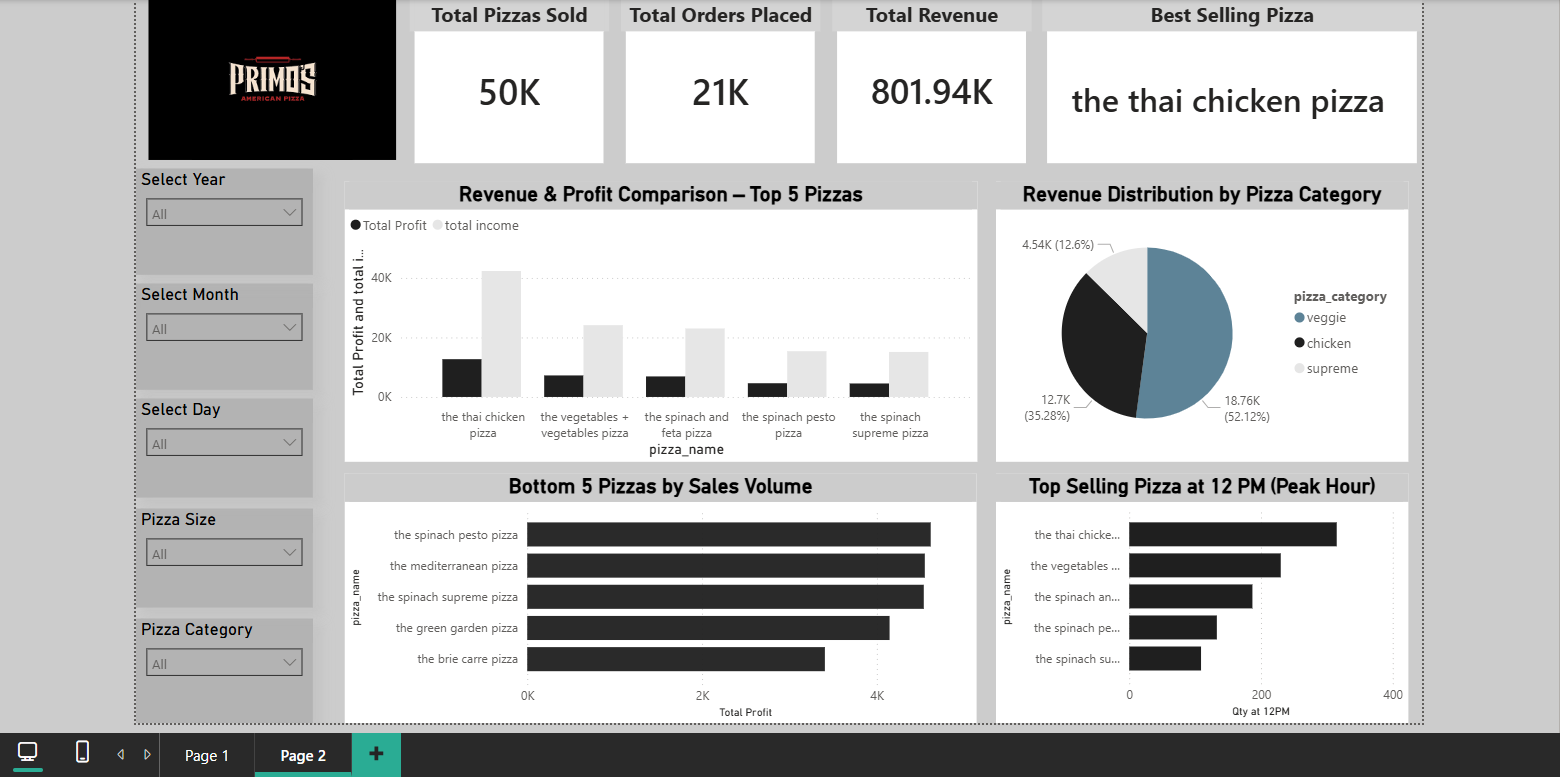

This screenshot's page, from the dashboard's own definition file:
{"tool":"powerbi","page":{"name":"Product Performance & Optimization","canvas":[1280,720],"ordinal":1},"visuals":[{"type":"image","box":[12.4,0,246.3,159.2],"z":0},{"type":"slicer","title":"Pizza Category","fields":{"Values":["pizza_sales.pizza_category"]},"box":[0,615.9,175.7,104.1],"z":1000},{"type":"slicer","title":"Pizza Size","fields":{"Values":["pizza_sales.pizza_size"]},"box":[0,506.8,175.7,98.6],"z":2000},{"type":"slicer","title":"Select Month","fields":{"Values":["pizza_sales.order_month"]},"box":[0,282.4,175.7,105.4],"z":3000},{"type":"slicer","title":"Select Day","fields":{"Values":["pizza_sales.order_day"]},"box":[0,397.3,175.7,98.6],"z":4000},{"type":"slicer","title":"Select Year","fields":{"Values":["pizza_sales.order_year"]},"box":[0,167.6,175.7,105.4],"z":5000},{"type":"cardVisual","title":"Total Pizzas Sold","fields":{"Data":["pizza_sales.total quantity"]},"box":[273,0,198.6,167.6],"z":6000},{"type":"cardVisual","title":"Total Orders Placed","fields":{"Data":["pizza_sales.total orders"]},"box":[482.4,0,198.6,167.6],"z":7000},{"type":"cardVisual","title":"Total Revenue","fields":{"Data":["pizza_sales.total income"]},"box":[693.2,0,198.6,167.6],"z":8000},{"type":"cardVisual","title":"Best Selling Pizza","fields":{"Data":["pizza_sales.top pizza sales"]},"box":[901.4,0,378.4,167.6],"z":9000},{"type":"clusteredColumnChart","title":"Revenue & Profit Comparison – Top 5 Pizzas","fields":{"Category":["pizza_sales.pizza_name"],"Y":["pizza_sales.Total Profit","pizza_sales.total income"]},"box":[207.7,180,629.3,279.4],"z":10000},{"type":"pieChart","title":"Revenue Distribution by Pizza Category","fields":{"Category":["pizza_sales.pizza_category"],"Y":["pizza_sales.Total Profit"]},"box":[855.9,180,410.3,279.4],"z":11000},{"type":"clusteredBarChart","title":"Bottom 5 Pizzas by Sales Volume","fields":{"Category":["pizza_sales.pizza_name"],"Y":["pizza_sales.Total Profit"]},"box":[208.1,471.9,628.7,248.8],"z":12000},{"type":"clusteredBarChart","title":"Top Selling Pizza at 12 PM (Peak Hour)","fields":{"Y":["pizza_sales.Qty at 12PM"],"Category":["pizza_sales.pizza_name"]},"box":[856,472,410,248],"z":13000}]}

Visuals, with their boxes on the page's 1280x720 design canvas (x1, y1, x2, y2). These are canvas units, not pixel positions in the 1560x777 screenshot, which may show the page scaled, cropped or inside an application window:
image: {"x1": 12, "y1": 0, "x2": 259, "y2": 159}
"Pizza Category" slicer: {"x1": 0, "y1": 616, "x2": 176, "y2": 720}
"Pizza Size" slicer: {"x1": 0, "y1": 507, "x2": 176, "y2": 605}
"Select Month" slicer: {"x1": 0, "y1": 282, "x2": 176, "y2": 388}
"Select Day" slicer: {"x1": 0, "y1": 397, "x2": 176, "y2": 496}
"Select Year" slicer: {"x1": 0, "y1": 168, "x2": 176, "y2": 273}
"Total Pizzas Sold" cardVisual: {"x1": 273, "y1": 0, "x2": 472, "y2": 168}
"Total Orders Placed" cardVisual: {"x1": 482, "y1": 0, "x2": 681, "y2": 168}
"Total Revenue" cardVisual: {"x1": 693, "y1": 0, "x2": 892, "y2": 168}
"Best Selling Pizza" cardVisual: {"x1": 901, "y1": 0, "x2": 1280, "y2": 168}
"Revenue & Profit Comparison – Top 5 Pizzas" clusteredColumnChart: {"x1": 208, "y1": 180, "x2": 837, "y2": 459}
"Revenue Distribution by Pizza Category" pieChart: {"x1": 856, "y1": 180, "x2": 1266, "y2": 459}
"Bottom 5 Pizzas by Sales Volume" clusteredBarChart: {"x1": 208, "y1": 472, "x2": 837, "y2": 721}
"Top Selling Pizza at 12 PM (Peak Hour)" clusteredBarChart: {"x1": 856, "y1": 472, "x2": 1266, "y2": 720}
